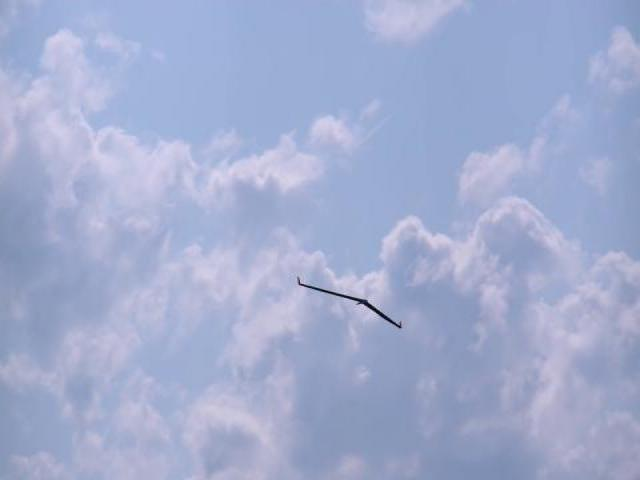flying wing: (295, 274, 404, 334)
